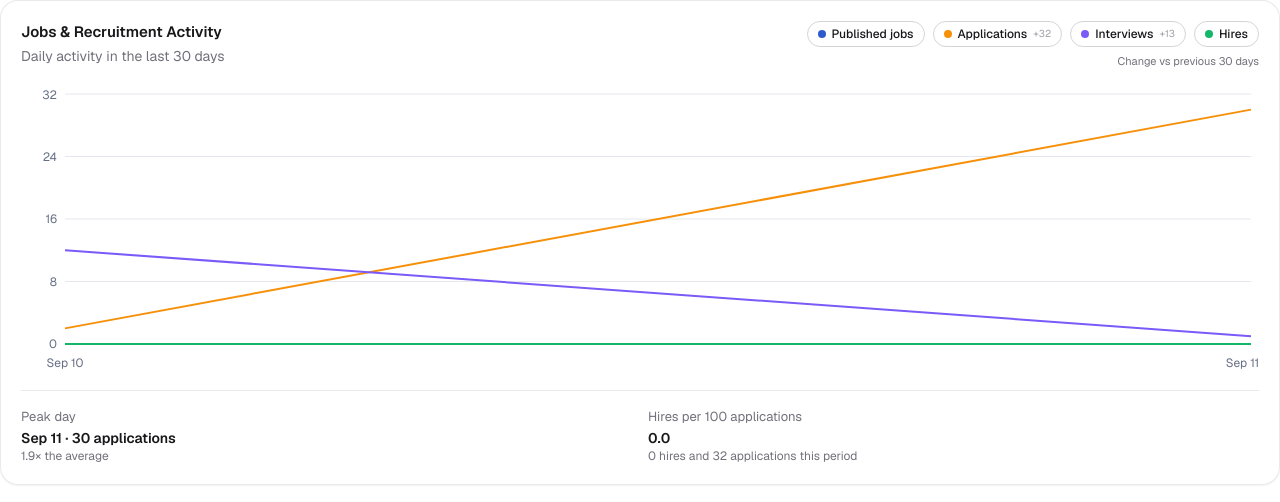
Test: TrendChart › insight row › moves the peak to the busiest visible series when a line is hidden
This screenshot has width=1280, height=502.
Click the button "Applications +32".
click(997, 34)  # box x1=933 y1=21 x2=1062 y2=47
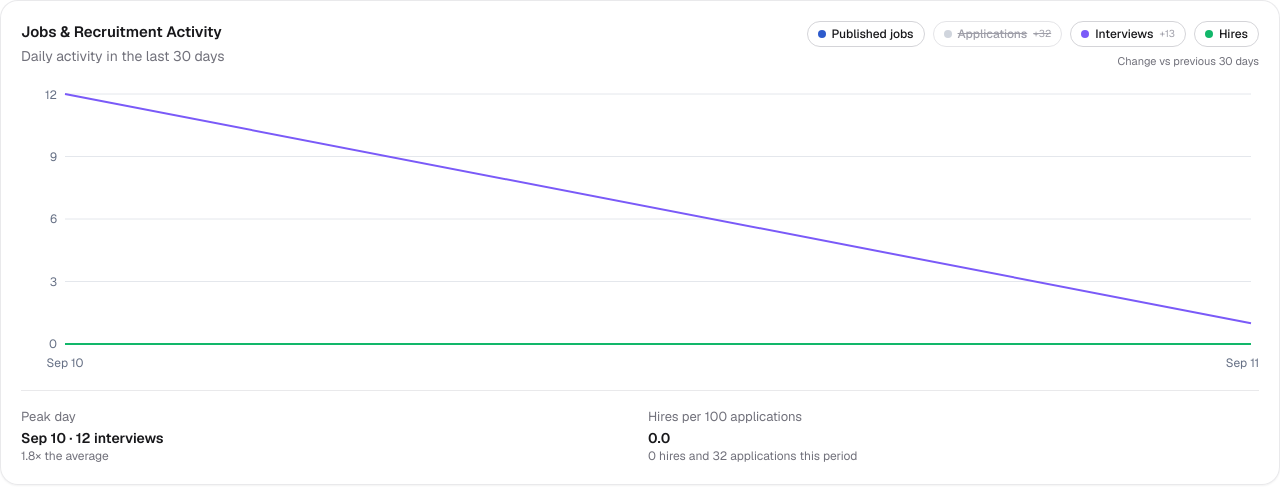
Expected: the text "Sep 10 · 12 interviews" is shown, x1=21 y1=429 x2=164 y2=447
